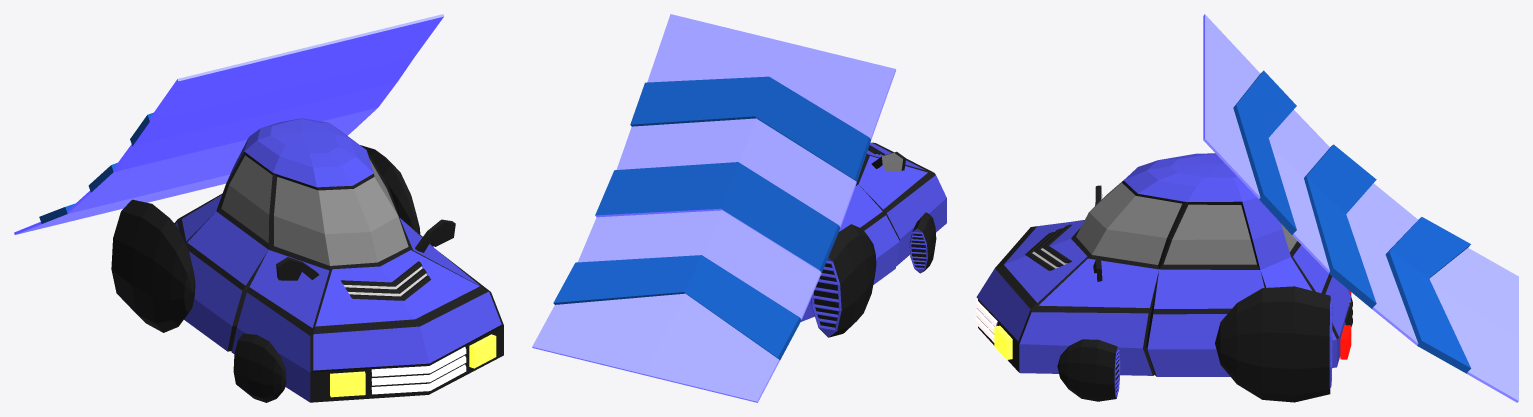
Rendered from avto+TRAMP.fbx.
3 renders of one model, left to right at view 1: azimuth 30°, elevation 25°; view 2: azimuth 150°, elevation 25°; view 3: azimuth 270°, elevation 25°, orthographic. The views are drawn at different scales.
Visible parts, largest first — view 1: Куб; view 2: Куб; view 3: Куб.
Part boxes in pixels (left/top/right/bottom): Куб: left=14, top=14, right=503, bottom=402; Куб: left=532, top=14, right=946, bottom=402; Куб: left=975, top=14, right=1518, bottom=402.
Size of the model in its own units: 146 by 148 by 267.
